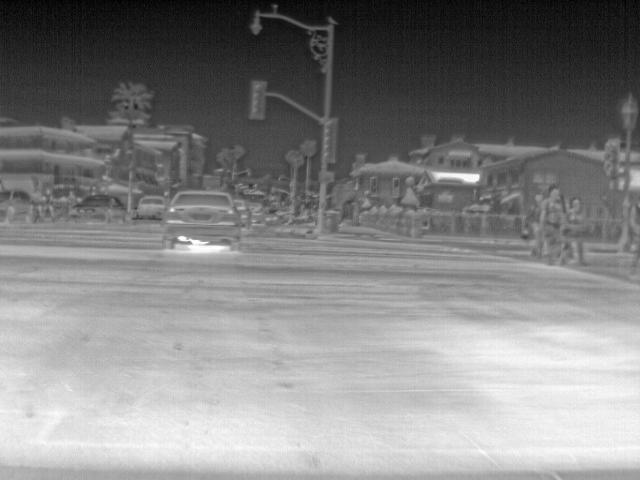car: (162, 192, 239, 248), (66, 191, 128, 224), (2, 186, 46, 221), (132, 193, 170, 222), (233, 199, 250, 227)
person: (540, 186, 564, 264), (566, 197, 590, 269)
